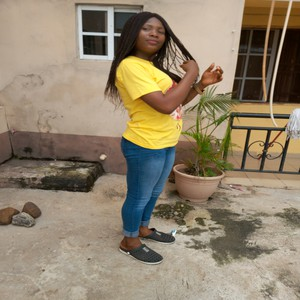Fulokoja_female_student: (113, 11, 181, 262)
